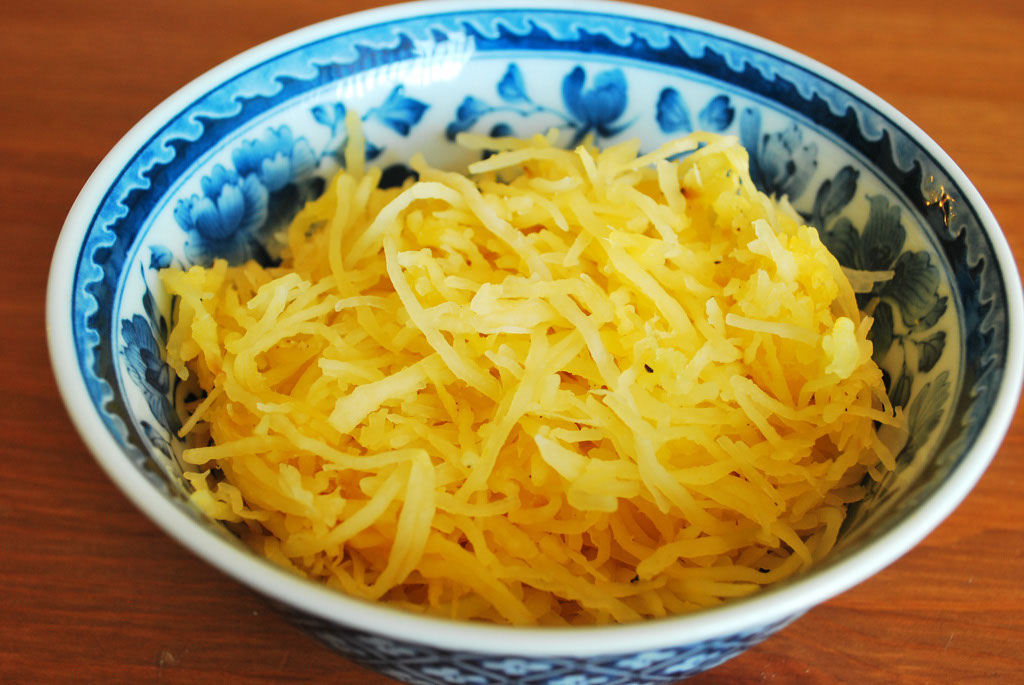plain spaghetti: (236, 153, 814, 579)
